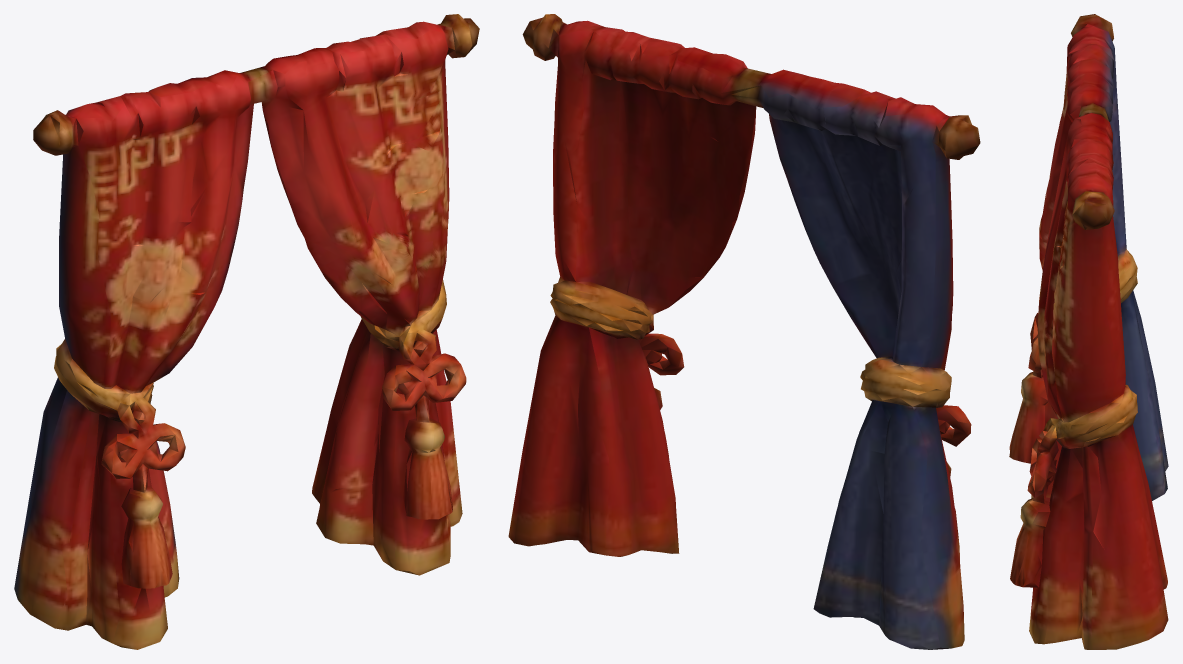
Rendered from curtain03.glb.
The picture shows the model from 3 angles, left to right: view 1: azimuth 30°, elevation 25°; view 2: azimuth 150°, elevation 25°; view 3: azimuth 270°, elevation 25°; orthographic projection. The views are drawn at different scales.
Size of the model in its own units: 0.2401 by 0.2714 by 0.082.
Materials: 1 (1 with a texture image).
